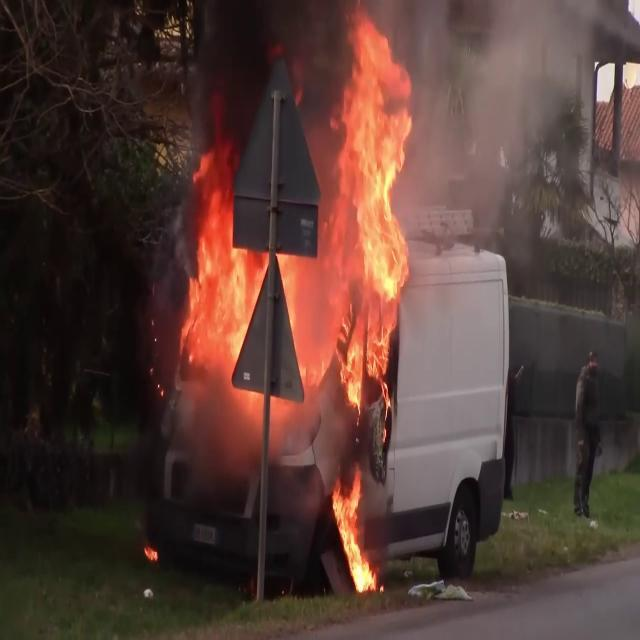Fire: (179, 28, 422, 414), (320, 13, 420, 409), (331, 468, 379, 598)
Smoke: (414, 0, 602, 335), (182, 0, 342, 154)
